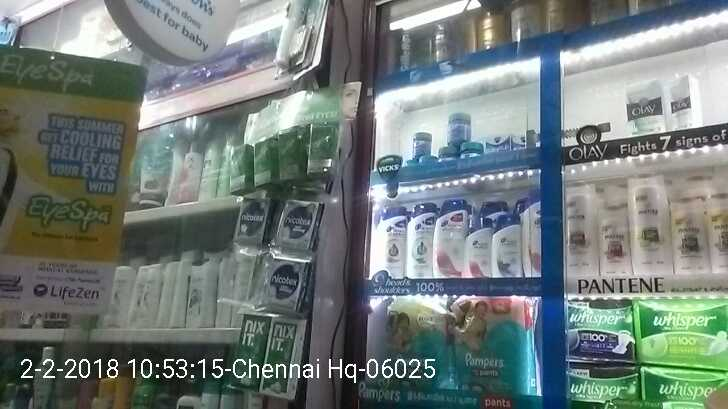vicks: (406, 106, 551, 166)
